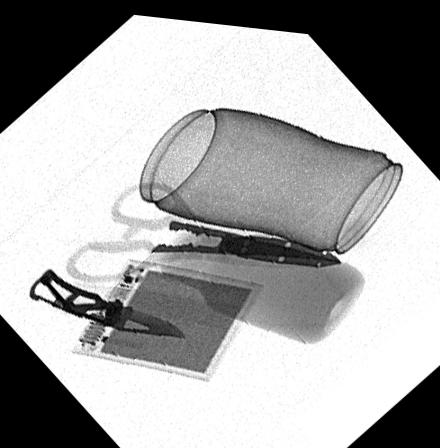Knife: (27, 264, 188, 334)
Powerbank: (67, 255, 265, 377)
Scissors: (60, 177, 343, 285)
